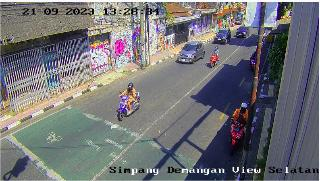mobil: (179, 38, 207, 64), (214, 27, 232, 48), (236, 22, 252, 42)
motor: (230, 100, 250, 152), (116, 82, 142, 120), (248, 49, 258, 73), (210, 46, 218, 70)
